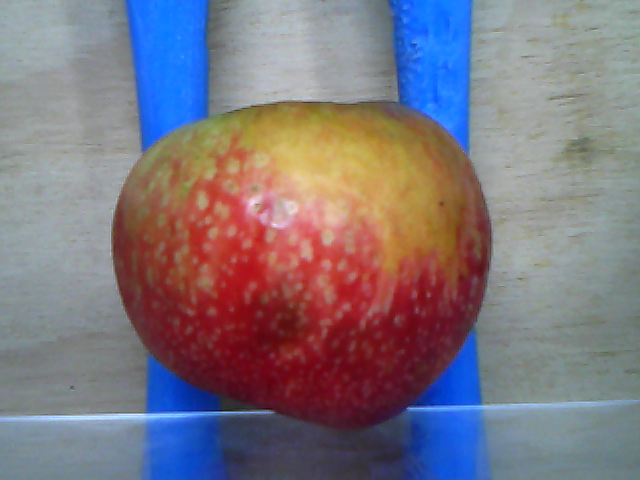bruise: (248, 286, 308, 356)
